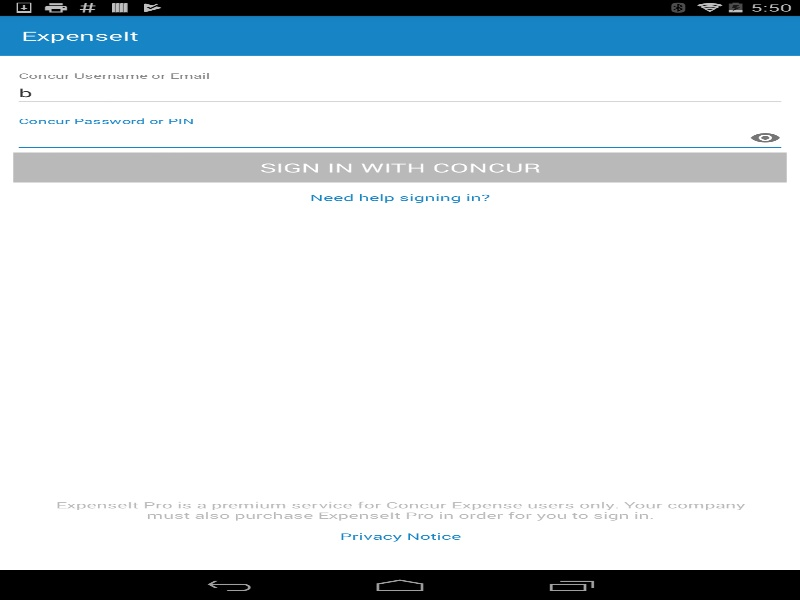Button: (13, 152, 786, 182), (310, 182, 490, 212), (339, 521, 460, 551), (744, 124, 786, 152)
Input: (13, 78, 786, 107), (13, 124, 786, 152)
